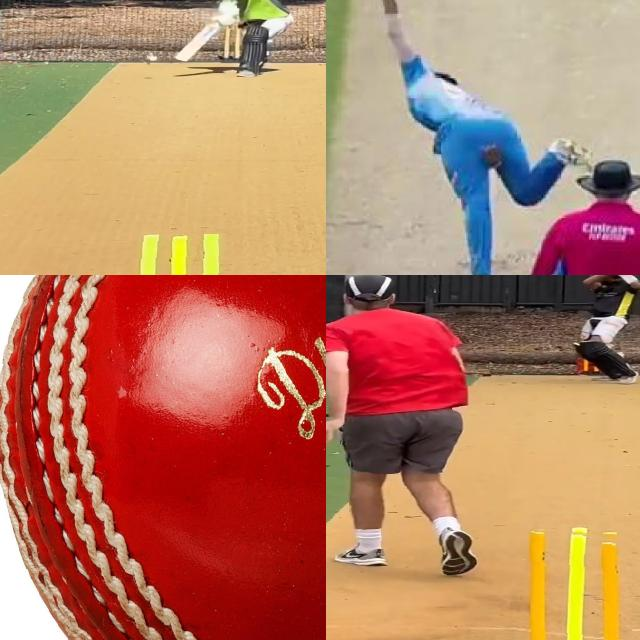Cricket ball: (0, 275, 326, 640), (145, 53, 159, 62)
Stumps: (510, 525, 632, 640), (116, 234, 248, 275)
